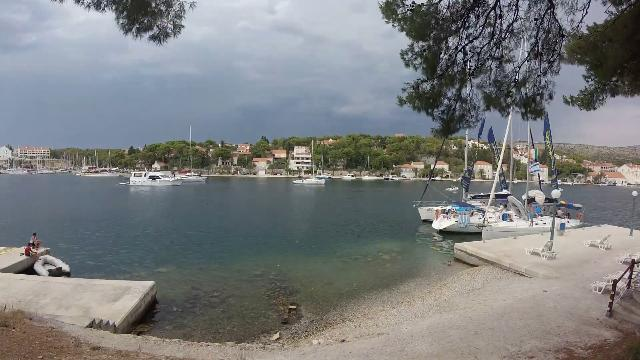Sailboat: (168, 166, 210, 184), (290, 174, 330, 188)
ferry: (124, 167, 186, 189)
